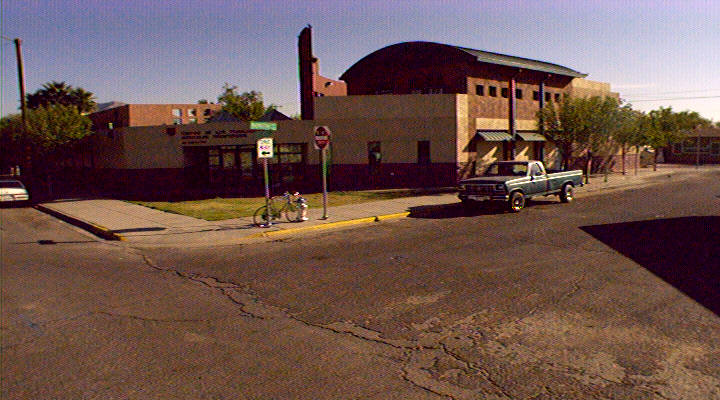Ramp: (109, 218, 275, 255)
